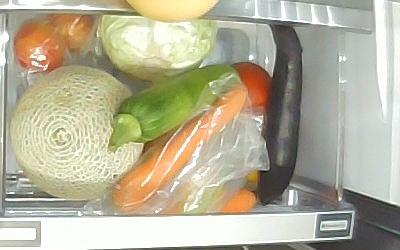cabbage: (98, 14, 218, 80)
carrot_vinyl: (109, 85, 248, 213), (172, 190, 257, 212)
eggplant: (259, 22, 303, 206)
melon: (10, 65, 145, 200)
prune_vinyl: (14, 19, 65, 74), (46, 13, 95, 51)
tomato: (230, 62, 274, 113)
zucchini: (108, 64, 239, 153)
